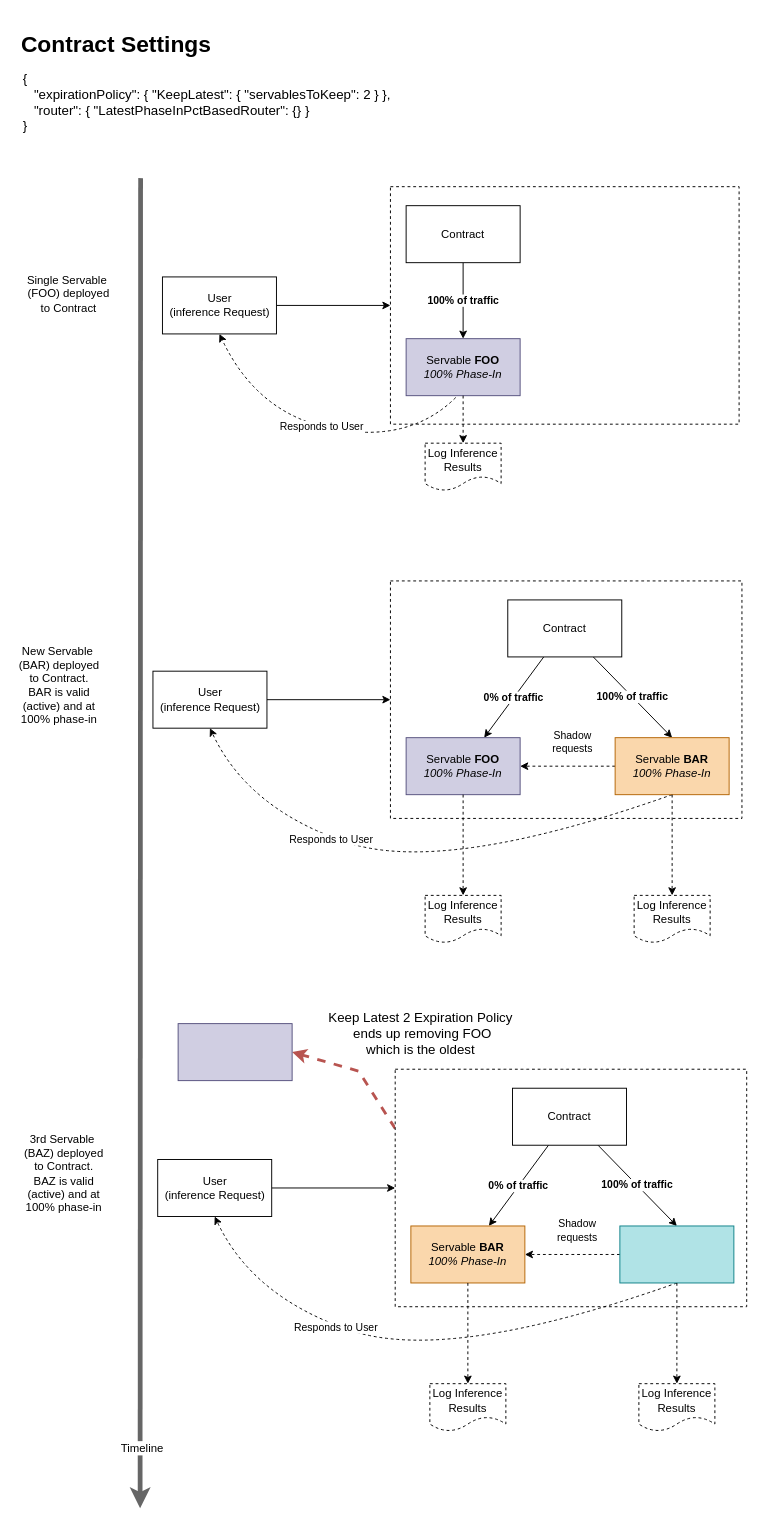
The diagram is 763 pixels wide and 1534 high, and some of its shapes have lost their labels. Here are the shapes that lost their labels. From the top down, the centre of each, then its label:
At [234,1052]: "Servable FOO REMOVED (Expired)".
At [676,1254]: "Servable BAZ 100% Phase-In".
